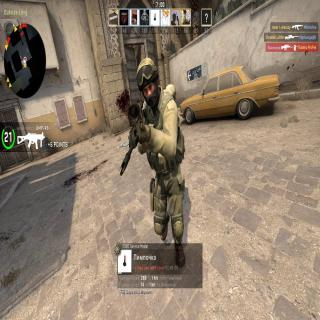CT-Body: (129, 58, 193, 264)
CT-Head: (133, 63, 159, 96)
